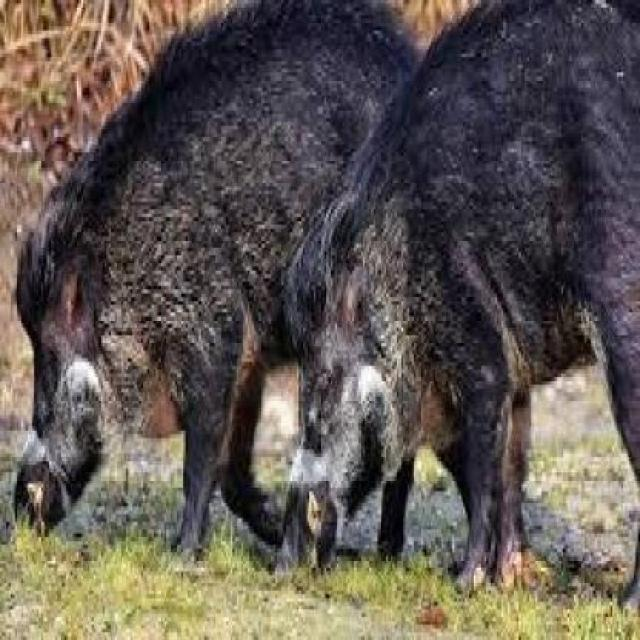wildboar: (6, 0, 457, 562), (267, 0, 640, 601)
